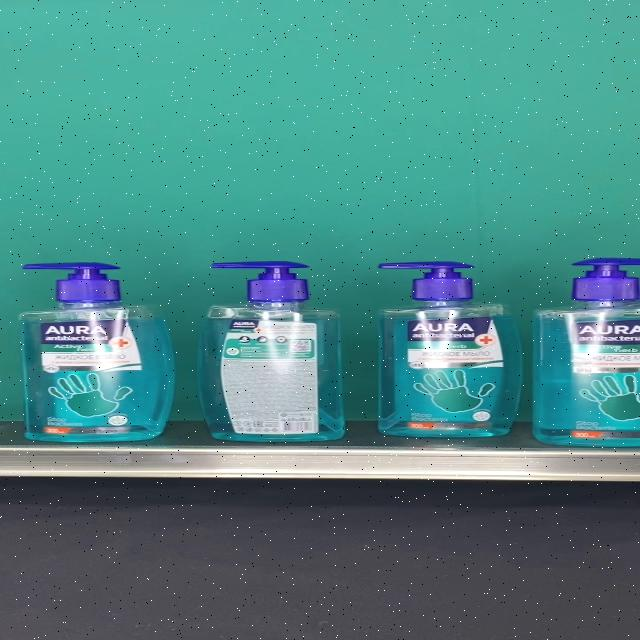Bottle: (18, 263, 174, 442), (200, 259, 346, 442), (377, 261, 524, 437), (532, 257, 640, 447)
Cap: (210, 260, 308, 302), (21, 262, 119, 302), (378, 262, 476, 302), (572, 257, 640, 303)
